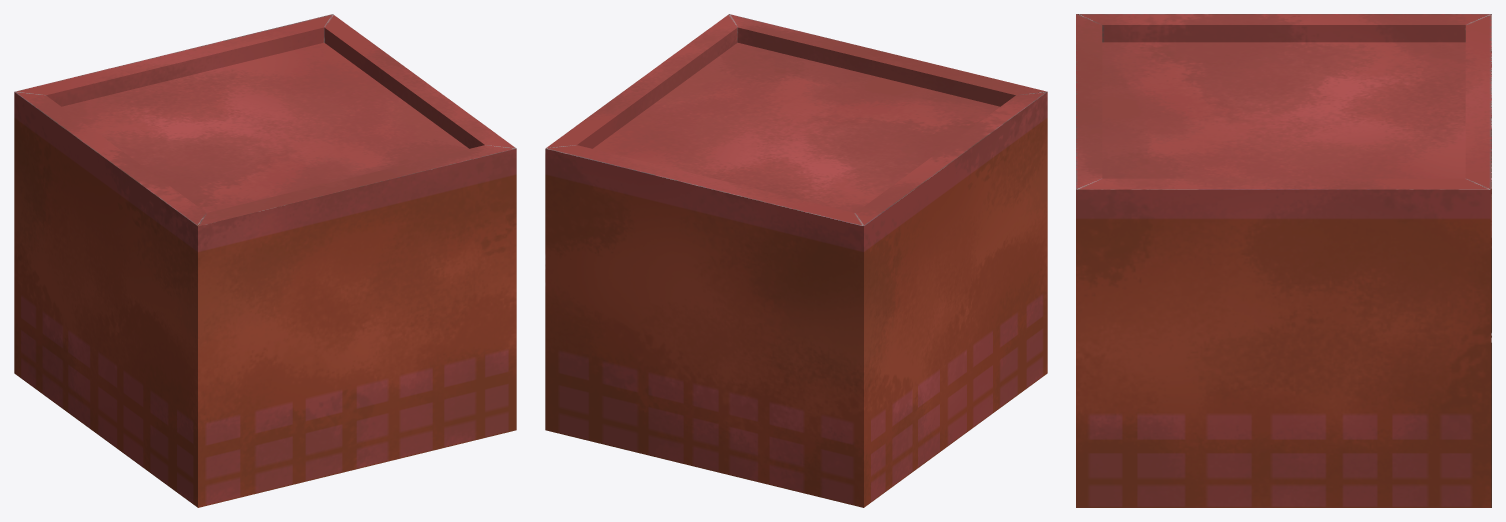
Rendered from edif1.fbx.
3 views of the same model, side by side, from view 1: azimuth 30°, elevation 25°; view 2: azimuth 150°, elevation 25°; view 3: azimuth 270°, elevation 25° (orthographic). The views are drawn at different scales.
Parts seen in each view (by area): view 1: 01; view 2: 01; view 3: 01.
Part boxes in pixels (x1,y1,x2,y2): 01: (14,14,516,507); 01: (545,14,1047,507); 01: (1076,14,1491,507).
Bounding box in the file's own units: 1273 × 1075 × 1273.
